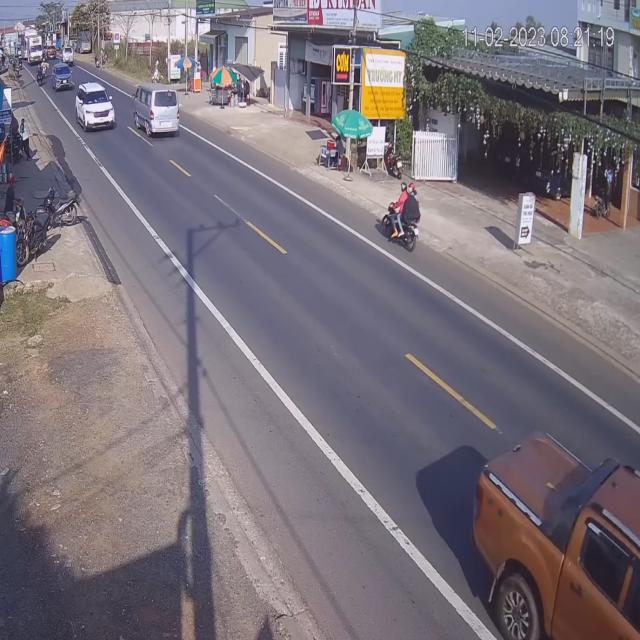car: (470, 421, 640, 640), (134, 84, 177, 140), (75, 83, 115, 135), (52, 60, 74, 93)
motorbike: (374, 181, 418, 253)
